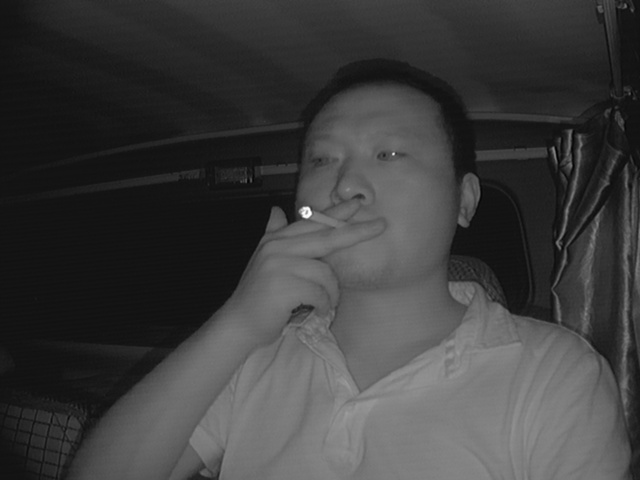hand: (271, 198, 380, 314)
